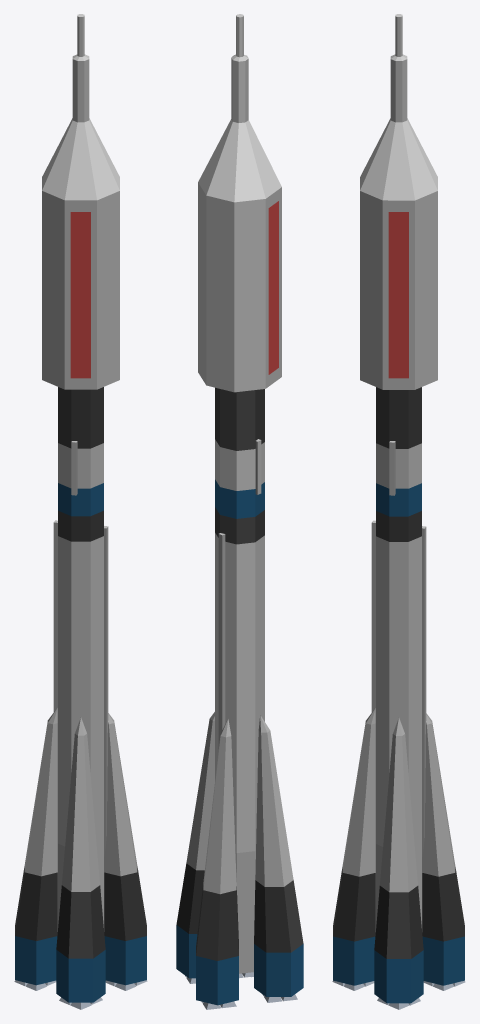
File: SM_Veh_Rocket_USSR_02.fbx
3 views of the same model, side by side, from view 1: azimuth 90°, elevation 25°; view 2: azimuth 150°, elevation 25°; view 3: azimuth 270°, elevation 25° (orthographic).
Visible parts, largest first — view 1: SM_Veh_Rocket_USSR_02; view 2: SM_Veh_Rocket_USSR_02; view 3: SM_Veh_Rocket_USSR_02.
Boxes of the visible parts, left/top/right/bottom form: SM_Veh_Rocket_USSR_02: left=14, top=14, right=147, bottom=1009; SM_Veh_Rocket_USSR_02: left=176, top=14, right=303, bottom=1009; SM_Veh_Rocket_USSR_02: left=332, top=14, right=465, bottom=1009.
Bounding box in the file's own units: 3.21 × 25.62 × 3.2.
